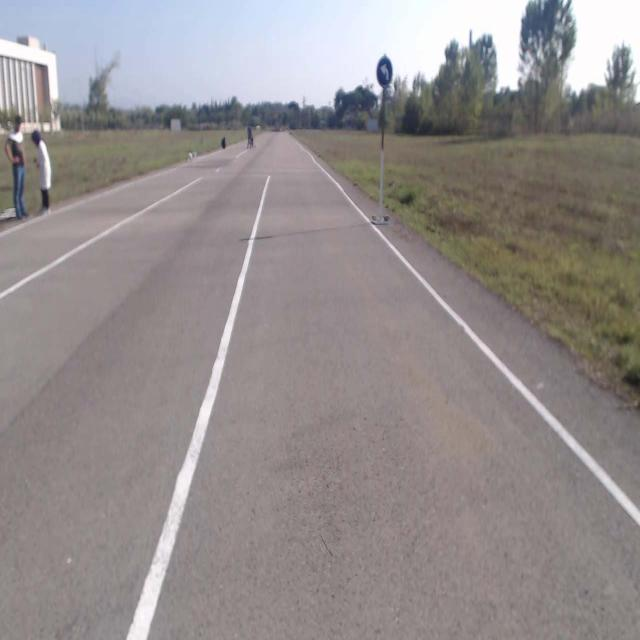sol: (377, 58, 393, 88)
